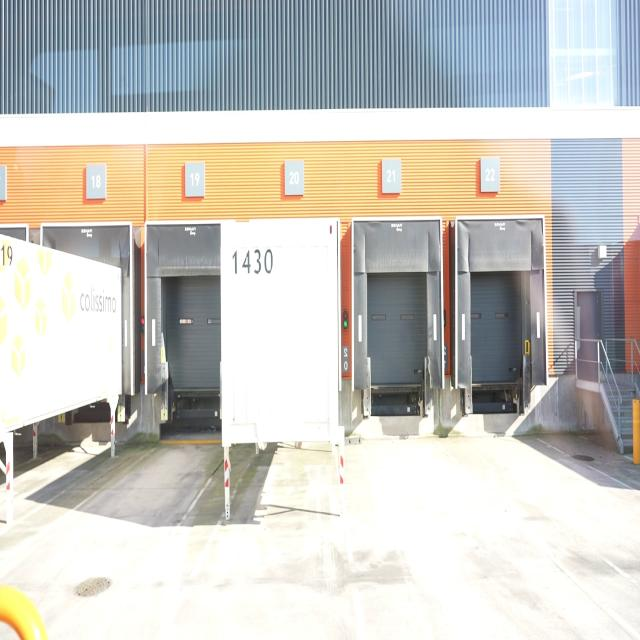Code: (230, 243, 274, 281)
